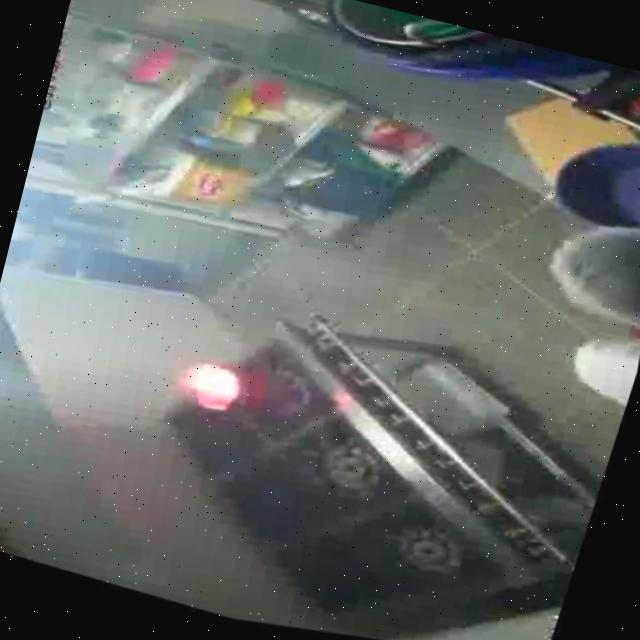fire: (91, 293, 345, 484)
